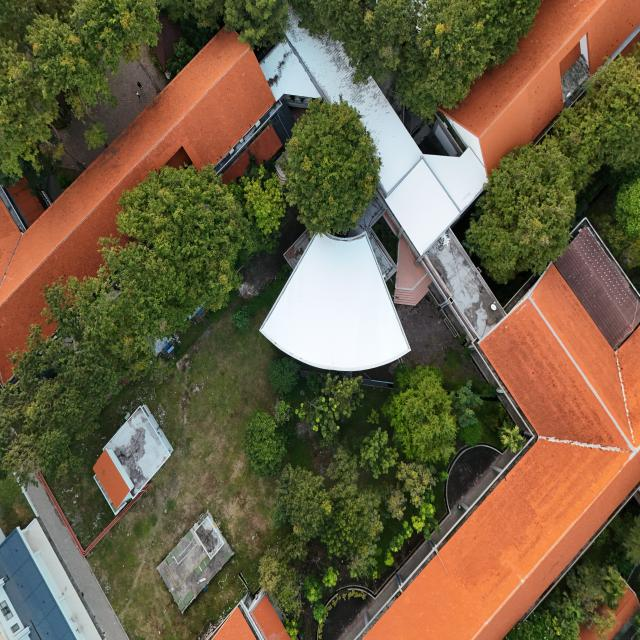Tree: (276, 96, 382, 241), (390, 370, 458, 468), (243, 402, 287, 478)
